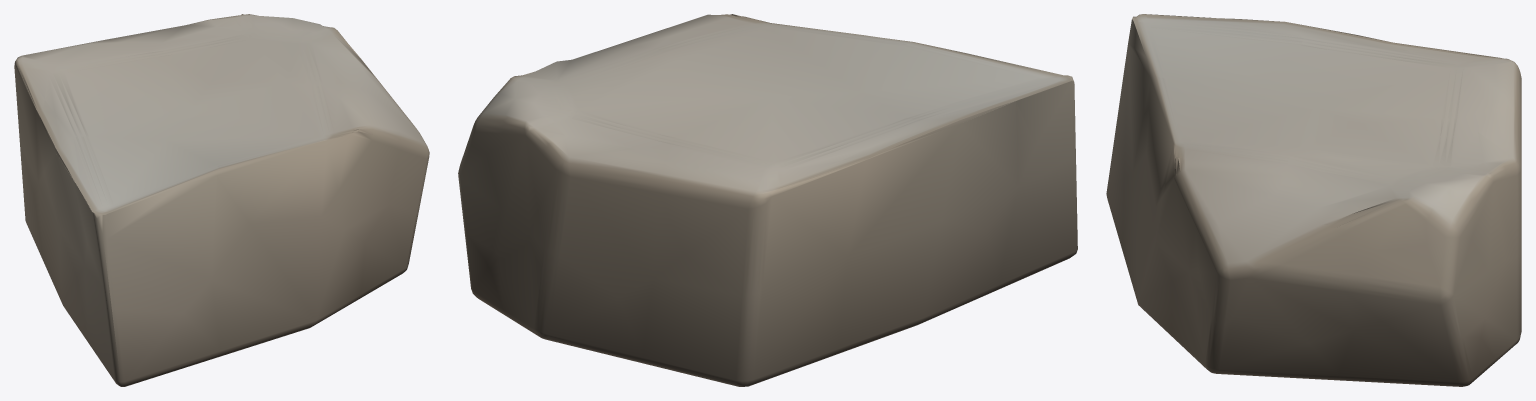
File: glade_stepping_stone_c.glb
3 renders of one model, left to right at view 1: azimuth 30°, elevation 25°; view 2: azimuth 150°, elevation 25°; view 3: azimuth 270°, elevation 25°, orthographic. The views are drawn at different scales.
Parts seen in each view (by area): view 1: glade_stepping_stone_c; view 2: glade_stepping_stone_c; view 3: glade_stepping_stone_c.
Boxes of the visible parts, x1=… form: glade_stepping_stone_c: x1=14, y1=14, x2=429, y2=386; glade_stepping_stone_c: x1=458, y1=14, x2=1077, y2=386; glade_stepping_stone_c: x1=1106, y1=14, x2=1521, y2=386.
Bounding box in the file's own units: 3.6 × 1.54 × 3.06.
